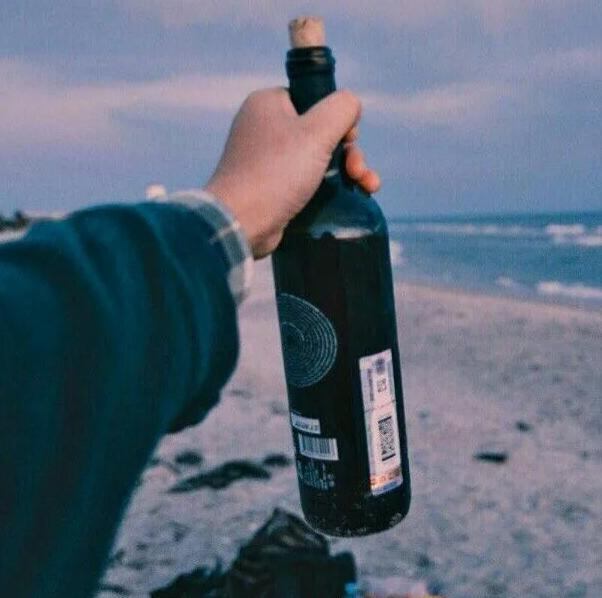wine bottle: (272, 44, 411, 537)
wine label: (273, 251, 364, 504)
